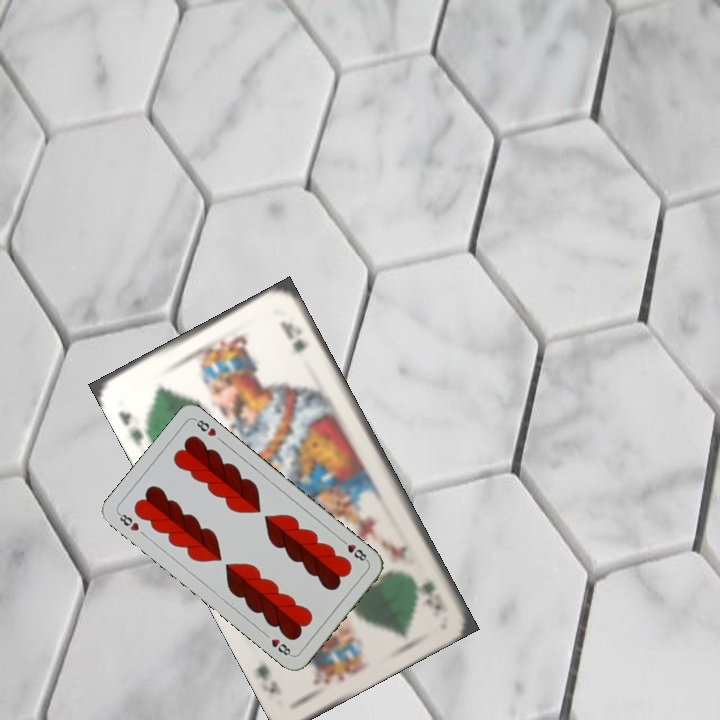GK: (115, 406, 146, 450), (417, 575, 445, 613)
H8: (336, 535, 371, 565), (114, 509, 142, 534)
